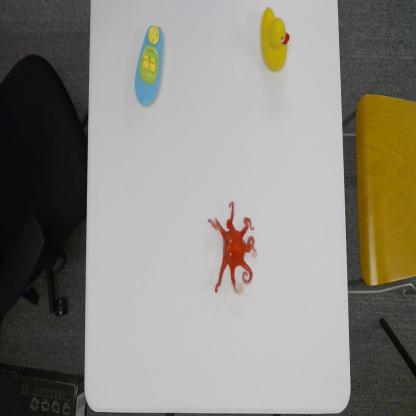Boat: (133, 22, 165, 108)
Duck: (259, 3, 292, 73)
Octopus: (206, 204, 259, 295)
